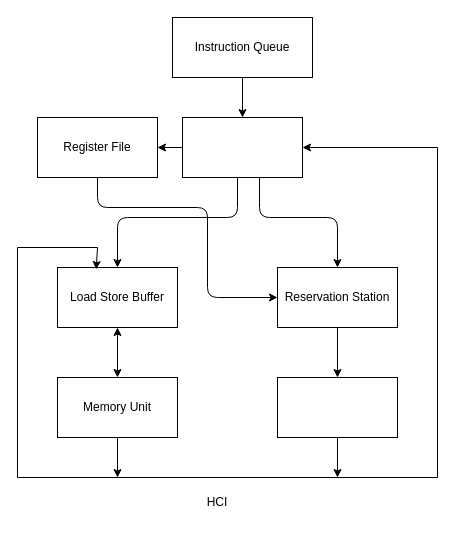
The diagram is 463 pixels wide and 535 high, and some of its shapes have lost their labels. Here are the shapes that lost their labels. From the top down, the centre of each, then its label:
[242,147]: Reorder Buffer
[337,407]: Arithmetic Logic Unit
